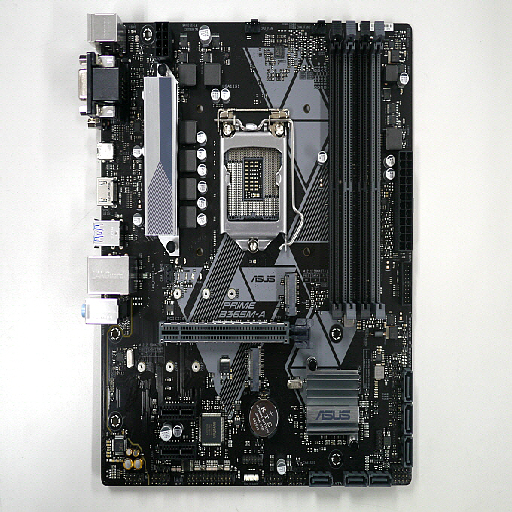CPU: (218, 109, 286, 251)
GPU: (159, 320, 310, 348)
MOTHERBOARD: (99, 21, 413, 486)
RAM: (327, 20, 387, 325)
SSD: (246, 348, 265, 389), (281, 273, 299, 315)
